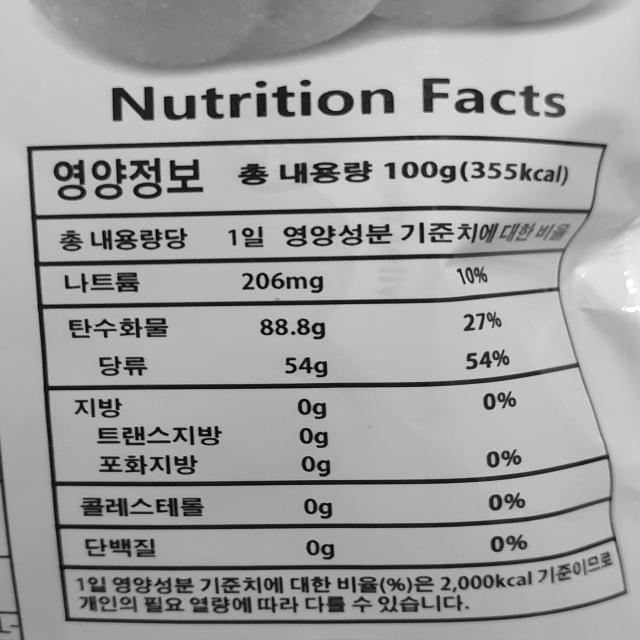Nutrition Label: (15, 134, 640, 625)
